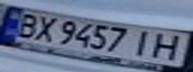4: (72, 20, 93, 51)
5: (90, 20, 112, 52)
7: (106, 22, 133, 54)
9: (54, 17, 78, 47)
B: (9, 10, 45, 38)
H: (145, 30, 193, 62)
I: (127, 27, 163, 57)
X: (27, 12, 63, 43)
